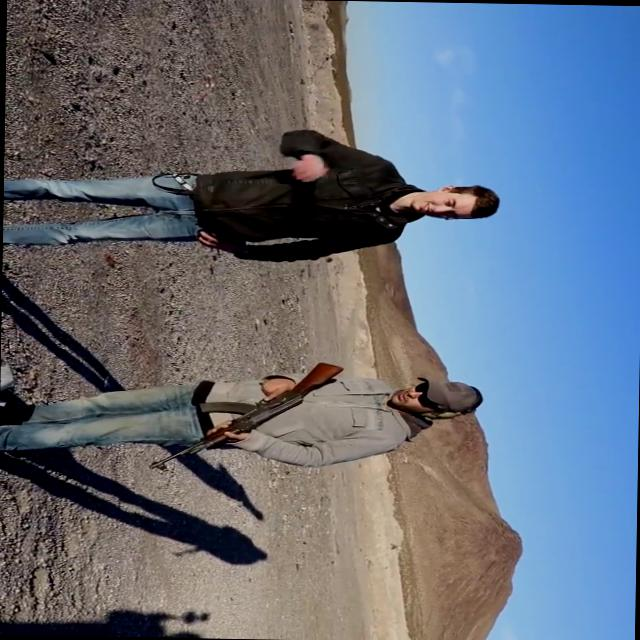long weapon: (143, 349, 357, 475)
